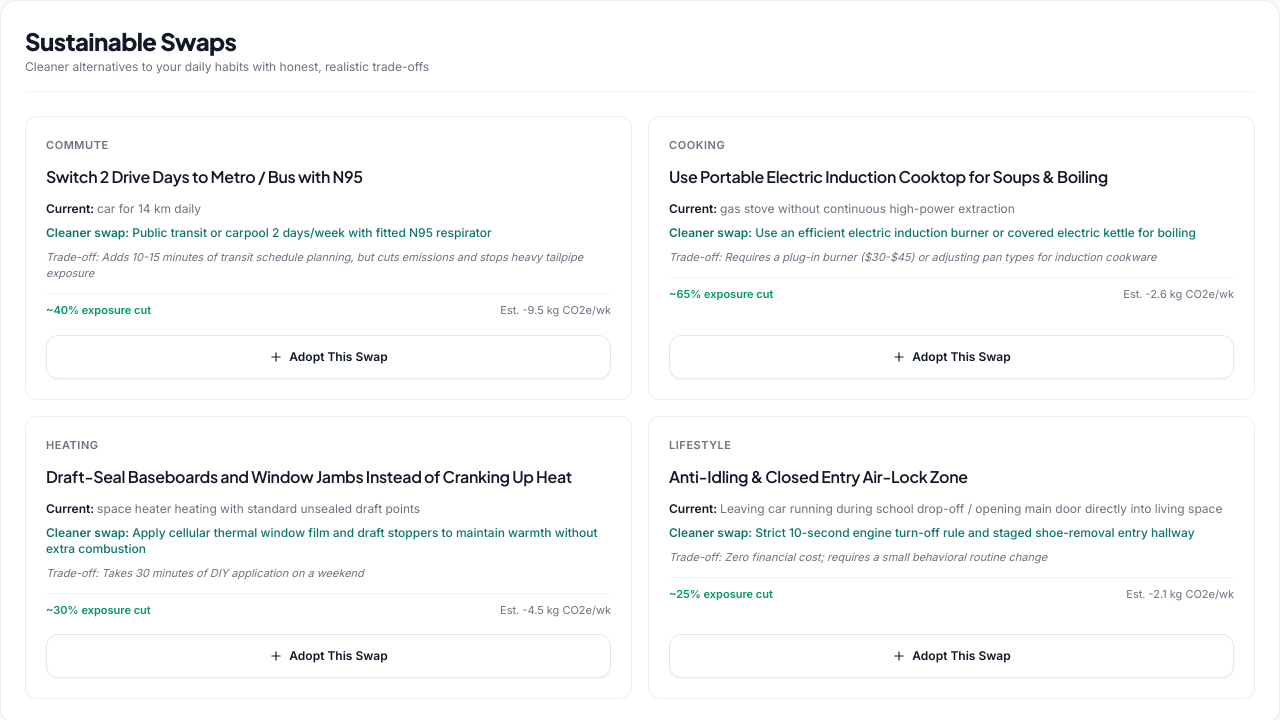
Feature Sections Suite › SustainableSwapsSection › renders sustainable swaps and allows toggling adoption
Expected: the heading "Sustainable Swaps" is shown, x1=25 y1=26 x2=236 y2=56
Click to adopt
Click the button "Adopt This Swap" below "40" at {"x": 328, "y": 356}, box x1=46 y1=334 x2=611 y2=378
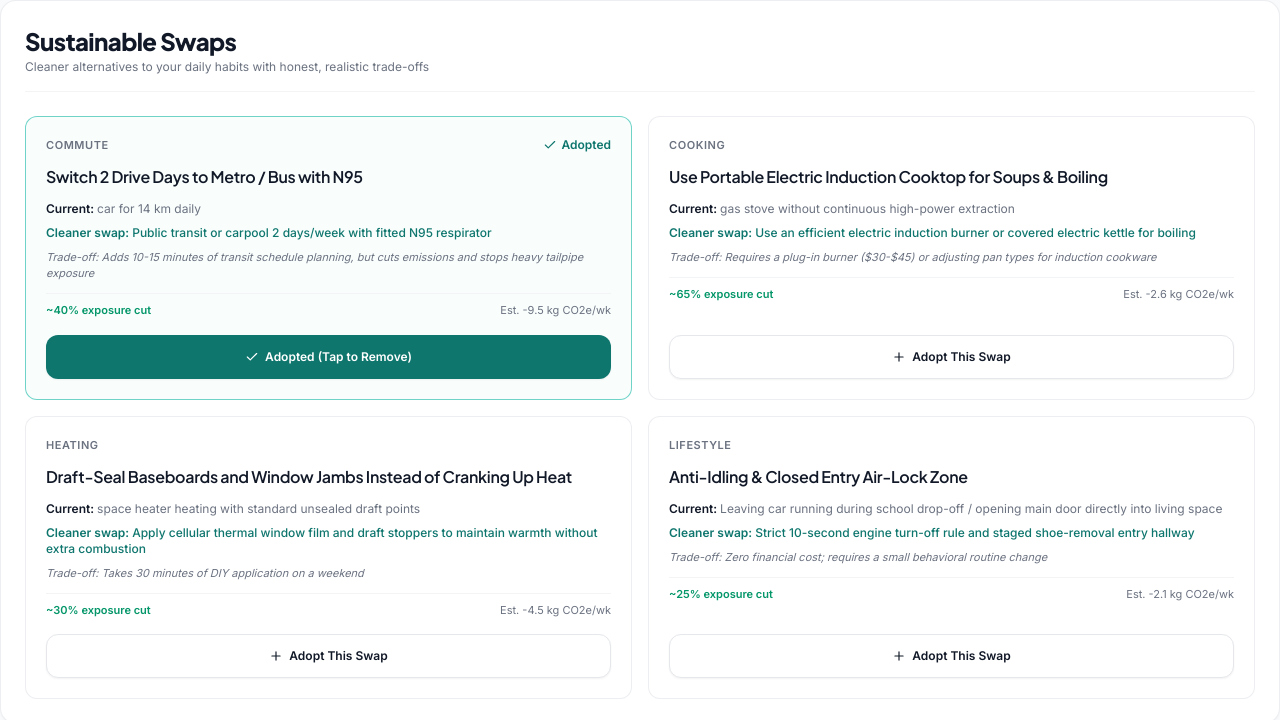
Expected: the button "Adopted (Tap to Remove)" is shown, x1=46 y1=334 x2=611 y2=378
